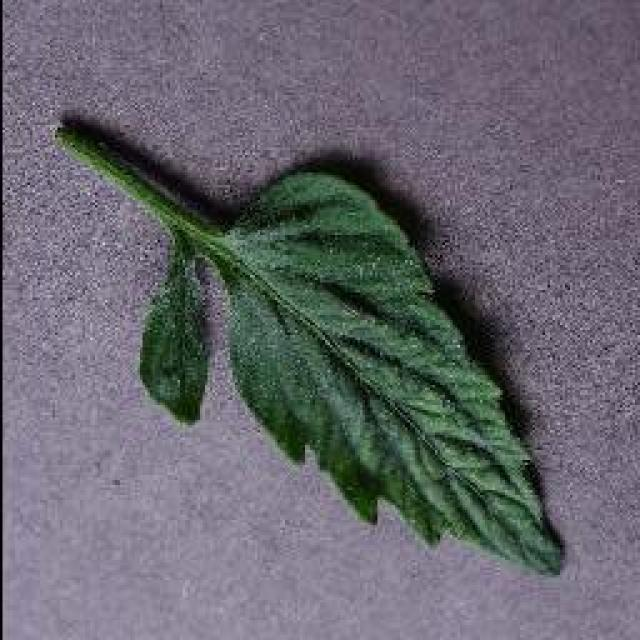Tomato___Tomato_mosaic_virus: (55, 125, 558, 570)
